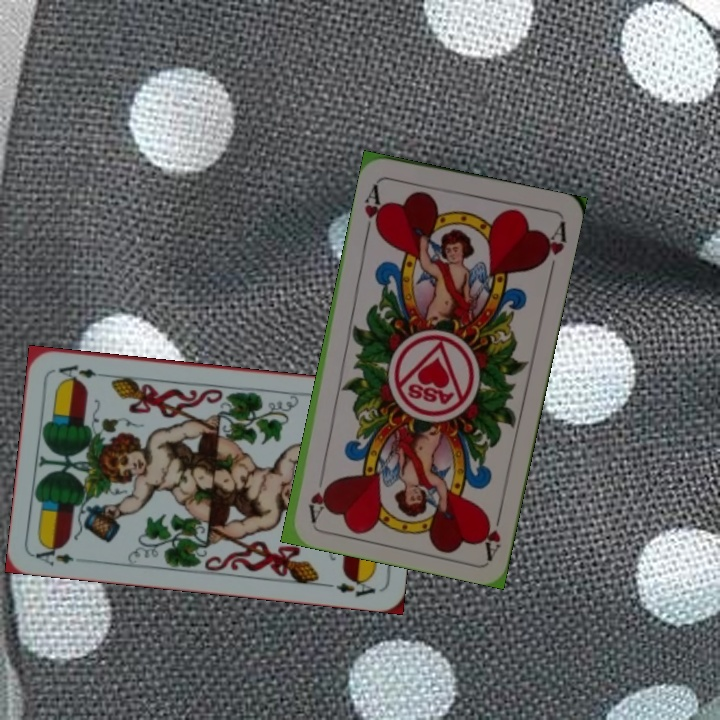EA: (31, 540, 76, 569)
HA: (477, 501, 506, 560), (360, 178, 387, 238)
